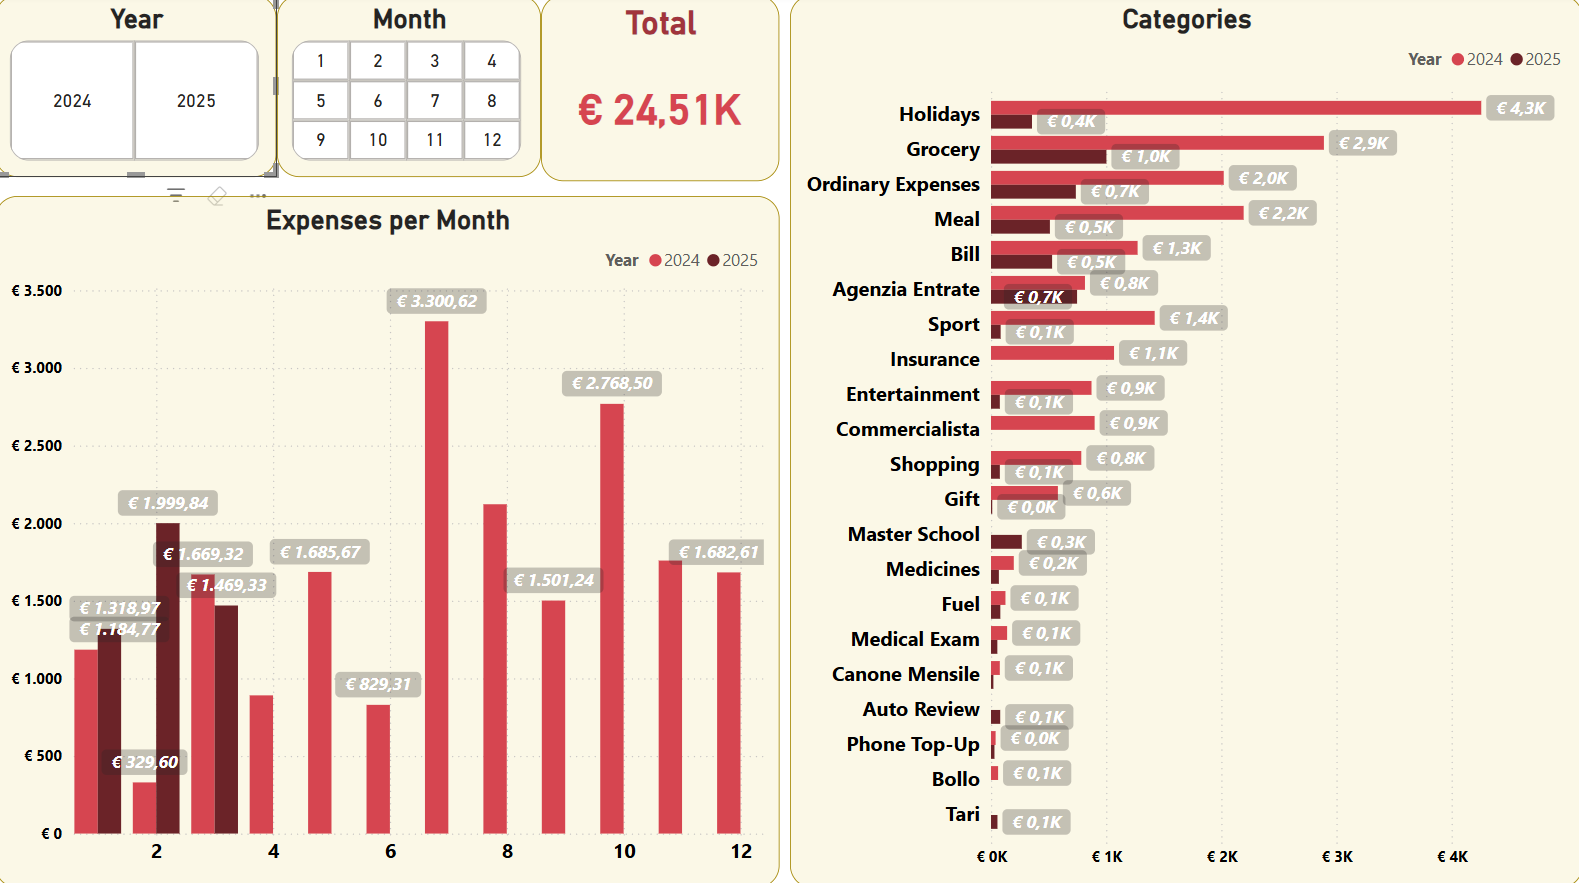

Layout of this report page (visuals, bound fields, positions):
{"tool":"powerbi","page":{"name":"Expenses","canvas":[1280,720],"ordinal":0},"visuals":[{"type":"advancedSlicerVisual","fields":{"Values":["Expenses.Year"]},"box":[0,0,226.9,146.5],"z":0},{"type":"advancedSlicerVisual","fields":{"Values":["Expenses.Month"]},"box":[226.9,0,212.5,146.5],"z":1000},{"type":"card","title":"Total","fields":{"Values":["Sum(Expenses.Amount)"]},"box":[439.8,0,192.1,149.8],"z":2000},{"type":"clusteredBarChart","title":"Categories","fields":{"Category":["Expenses.Type"],"Y":["Sum(Expenses.Amount)"],"Series":["Expenses.Year"]},"box":[640.8,0,638.3,719.5],"z":3000},{"type":"clusteredColumnChart","title":"Expenses per Month","fields":{"Category":["Expenses.Month"],"Y":["Sum(Expenses.Amount)"],"Series":["Expenses.Year"]},"box":[0,161.9,631.9,557],"z":4000}]}

Visuals, with their boxes in screenshot pixels (x1, y1, x2, y2), scaled from the page's 1280x720 canvas onto the 1579x883 screenshot:
advancedSlicerVisual - Expenses.Year: detection(0, 0, 280, 180)
advancedSlicerVisual - Expenses.Month: detection(280, 0, 542, 180)
"Total" card: detection(543, 0, 780, 184)
"Categories" clusteredBarChart: detection(790, 0, 1578, 882)
"Expenses per Month" clusteredColumnChart: detection(0, 199, 780, 882)
